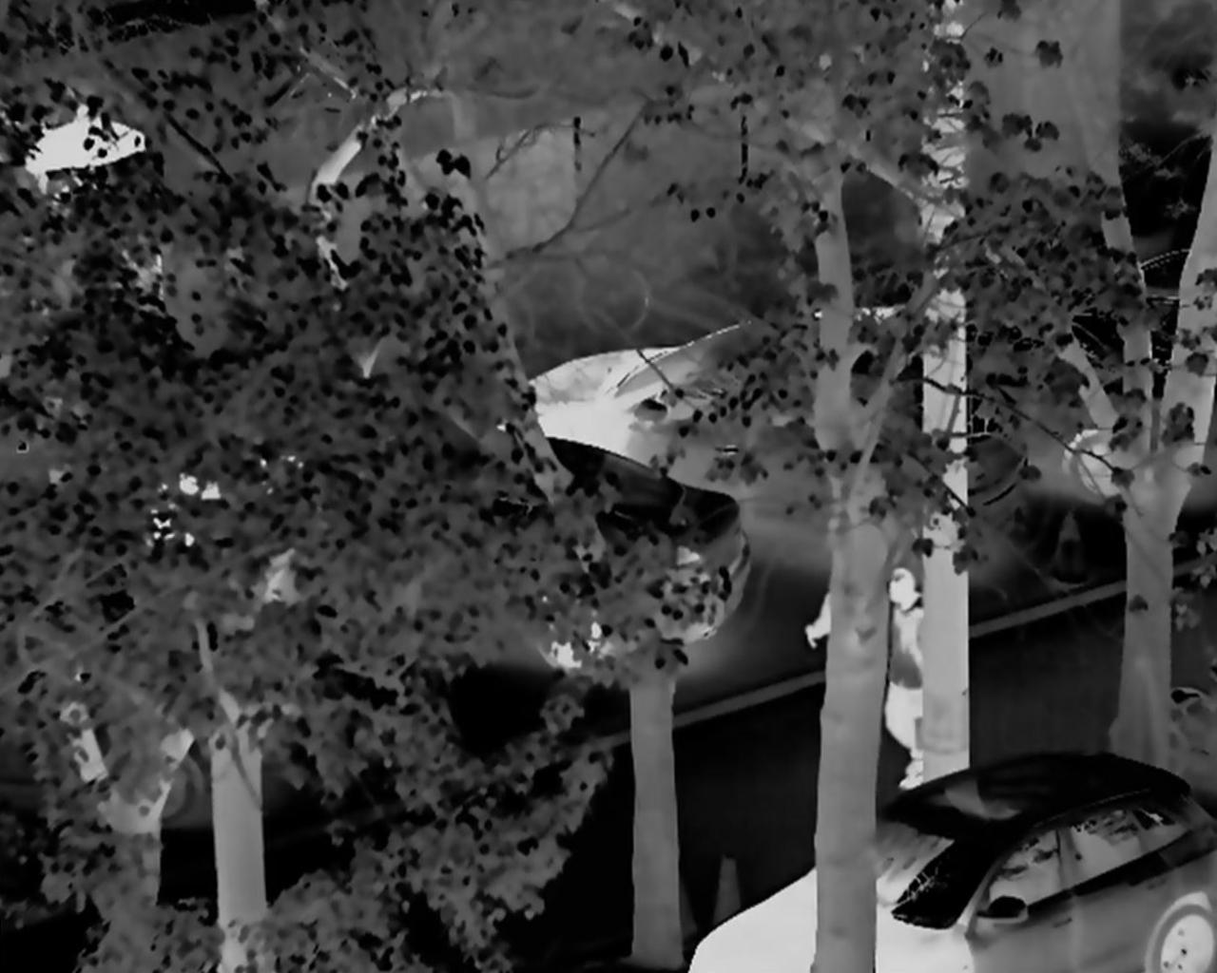person: (871, 563, 937, 774)
